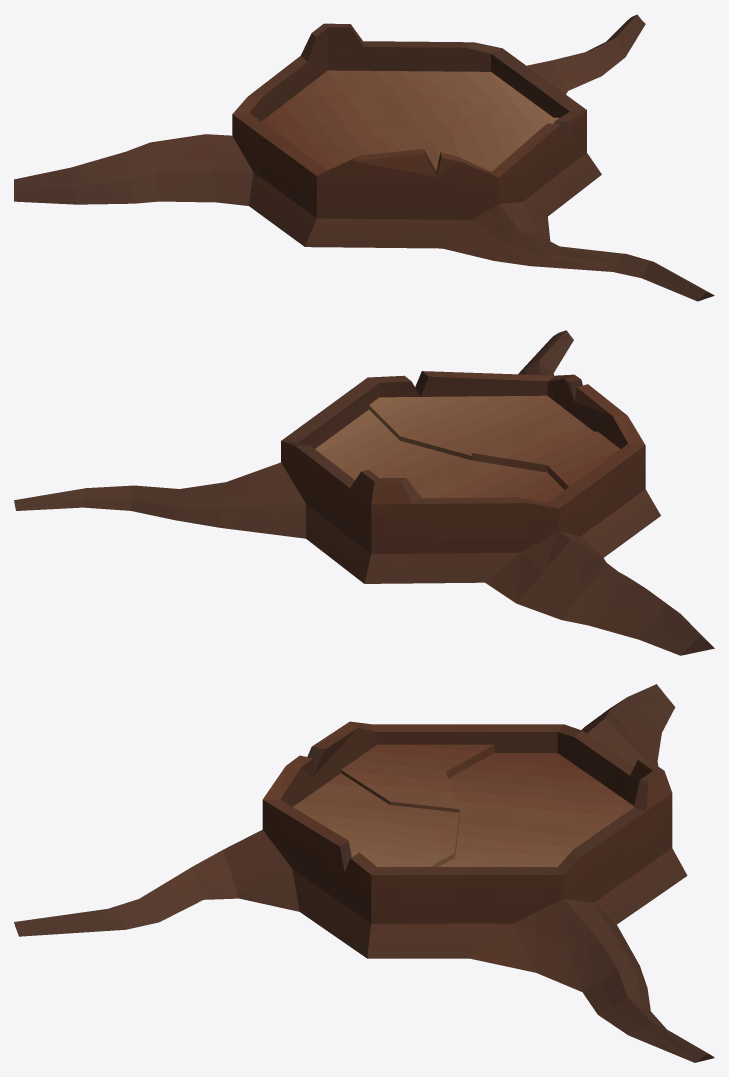
File: toco_baixo.glb
The picture shows the model from 3 angles, top to bottom: view 1: azimuth 30°, elevation 25°; view 2: azimuth 150°, elevation 25°; view 3: azimuth 270°, elevation 25°; orthographic projection. The views are drawn at different scales.
Parts seen in each view (by area): view 1: TreeStumpShortD; view 2: TreeStumpShortD; view 3: TreeStumpShortD.
Boxes of the visible parts, x1=… form: TreeStumpShortD: x1=14, y1=14, x2=714, y2=301; TreeStumpShortD: x1=14, y1=330, x2=714, y2=655; TreeStumpShortD: x1=14, y1=684, x2=714, y2=1062.
Size of the model in its own units: 2.57 by 0.3449 by 2.09.
1 material, 1 textured.
